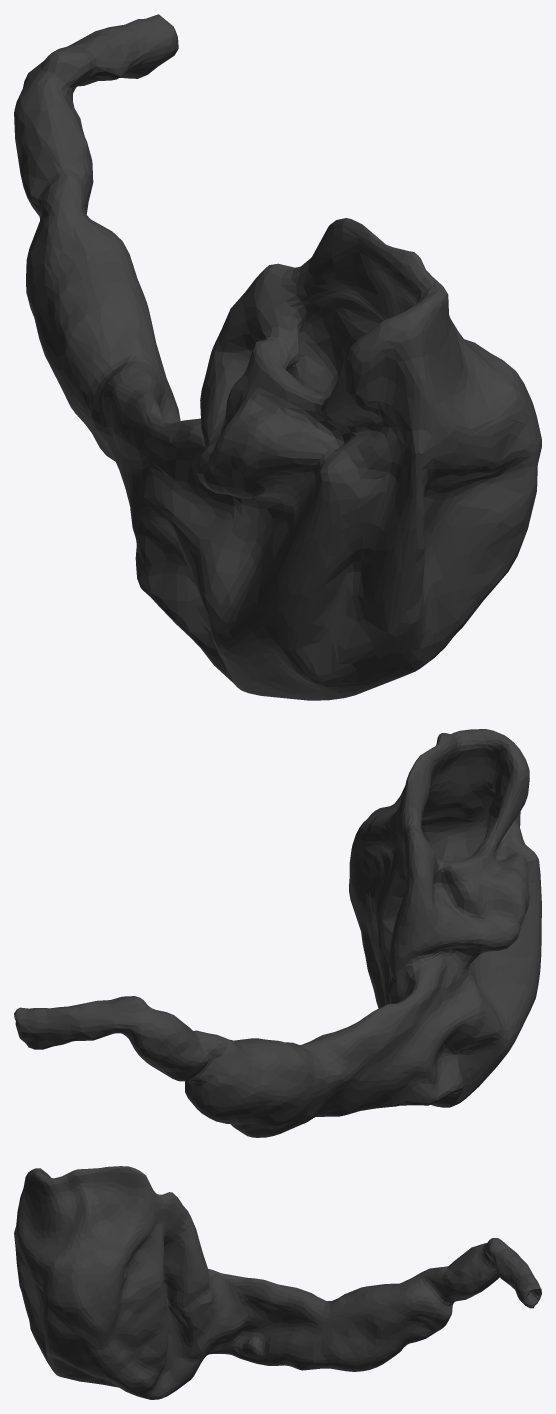
File: Goat_abomasum_low.glb
3 renders of one model, top to bottom at view 1: azimuth 30°, elevation 25°; view 2: azimuth 150°, elevation 25°; view 3: azimuth 270°, elevation 25°, orthographic. The views are drawn at different scales.
Visible parts, largest first — view 1: Goat_abomasum_low; view 2: Goat_abomasum_low; view 3: Goat_abomasum_low.
Boxes of the visible parts, x1,y1,x2,y2 form: Goat_abomasum_low: (14, 14, 541, 700); Goat_abomasum_low: (14, 729, 541, 1137); Goat_abomasum_low: (14, 1166, 541, 1399).
Bounding box in the file's own units: 1.72 × 2.18 × 4.25.
Materials: 1 (1 with a texture image).
